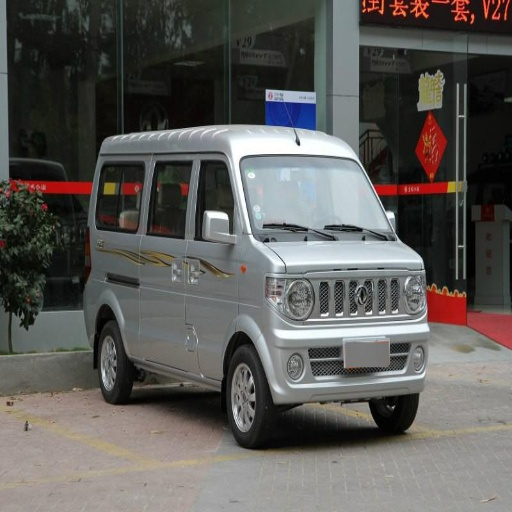front_bumper: (265, 272, 426, 401)
front_left_light: (391, 269, 427, 318)
front_right_door: (170, 154, 241, 372)
front_right_light: (267, 271, 314, 325)
